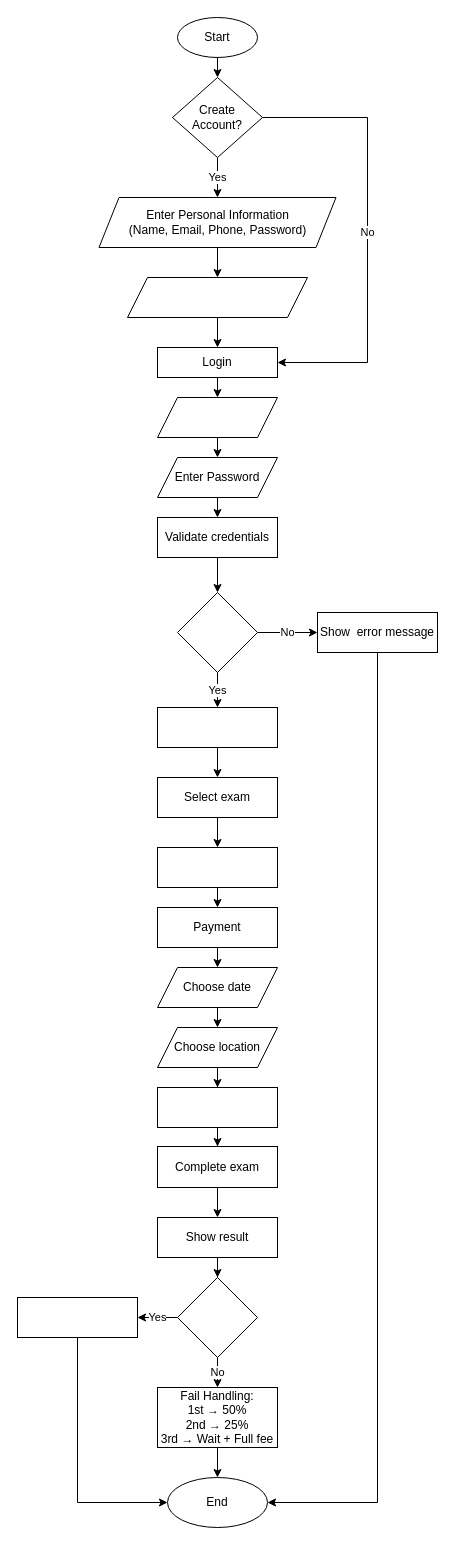
Image size: 455x1545. Some labels were removed from this diagram. Each missing label, with the box of its shape:
Attend exam: (156, 1086, 278, 1128)
Enter email: (156, 396, 278, 438)
Enter Verification Code: (126, 276, 308, 318)
Issue certificate: (16, 1296, 138, 1338)
Login successful: (176, 592, 258, 672)
Pass?: (176, 1276, 258, 1358)
View available exams: (156, 706, 278, 748)
View exam details: (156, 846, 278, 888)
